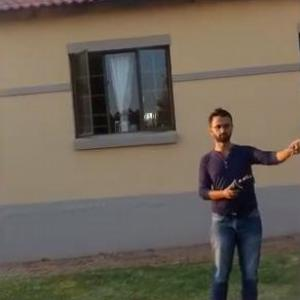follow: (190, 103, 300, 299)
